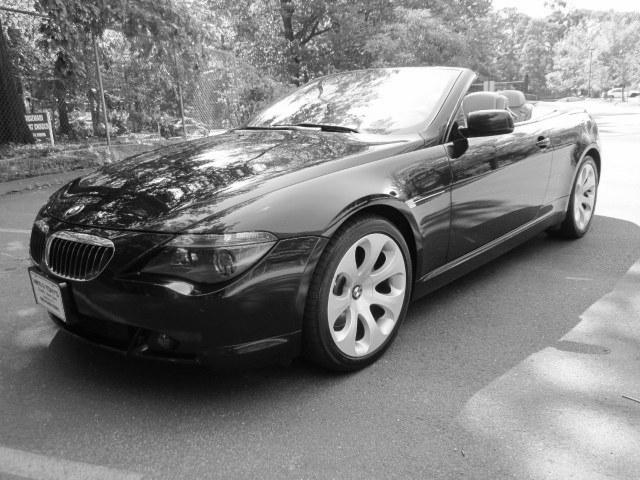car: (26, 65, 603, 366)
